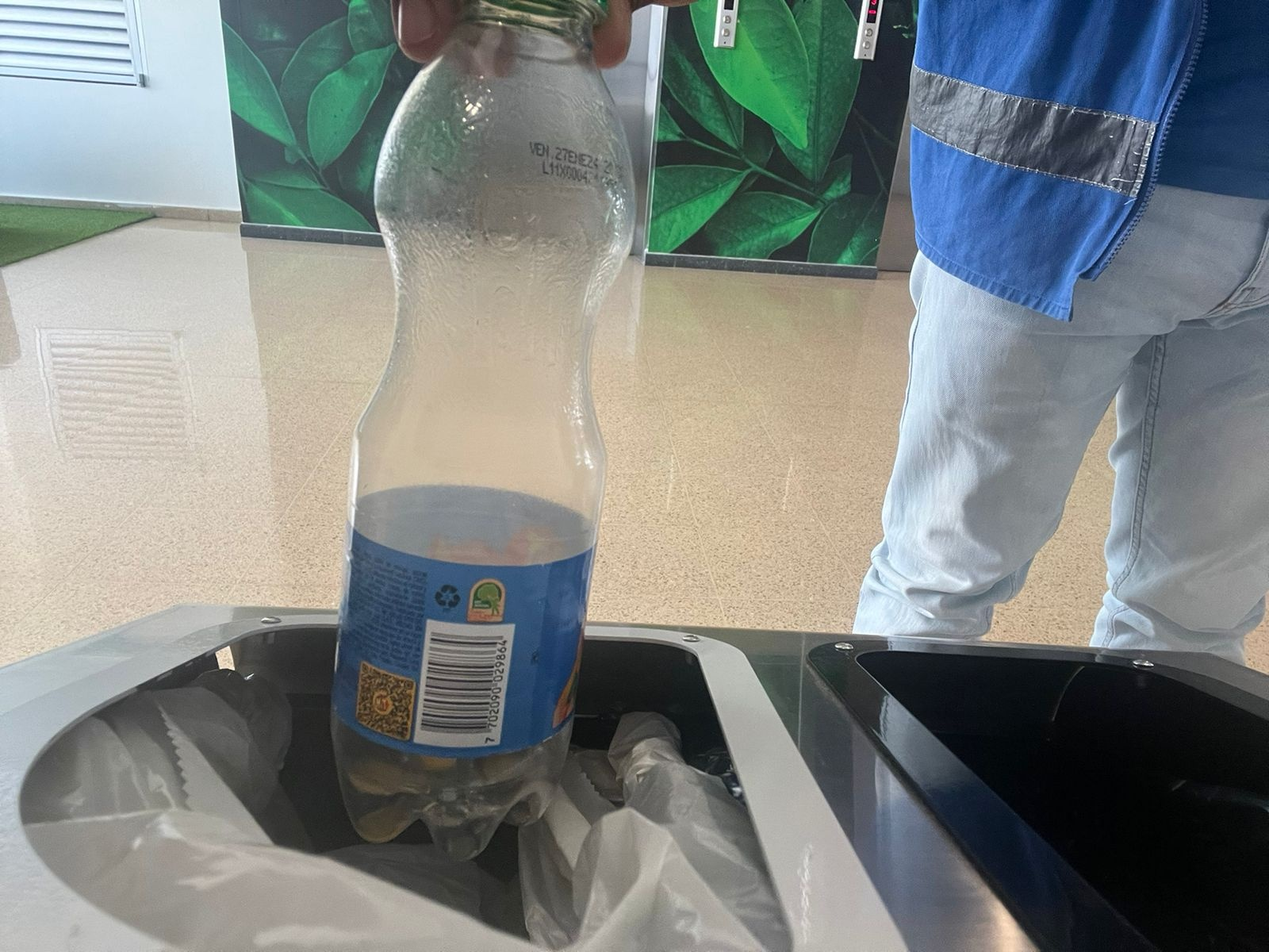Plastico: (332, 0, 637, 858)
